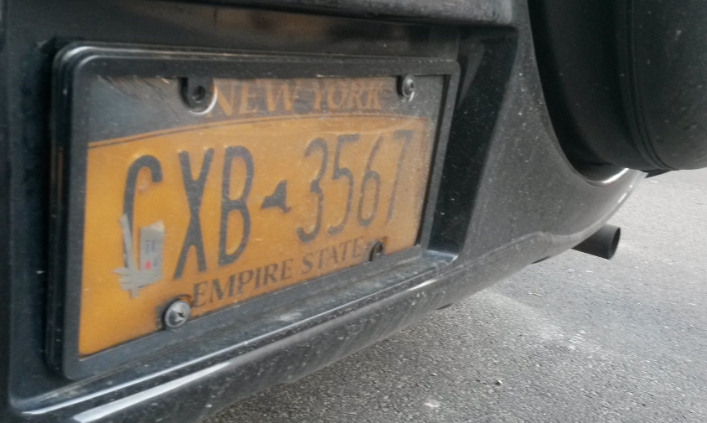license plate: (53, 47, 442, 363)
